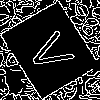V: (25, 25, 84, 77)
